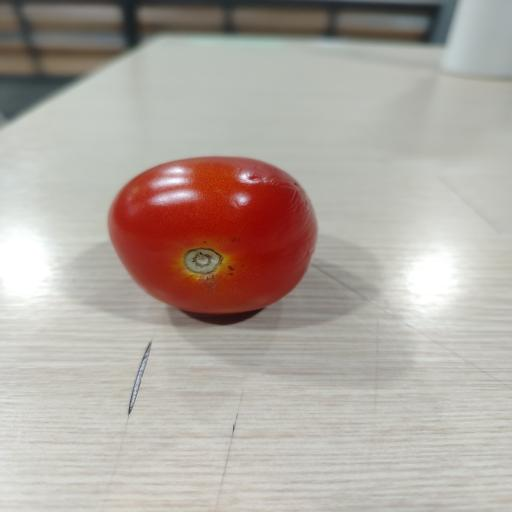overipe: (109, 157, 317, 313)
